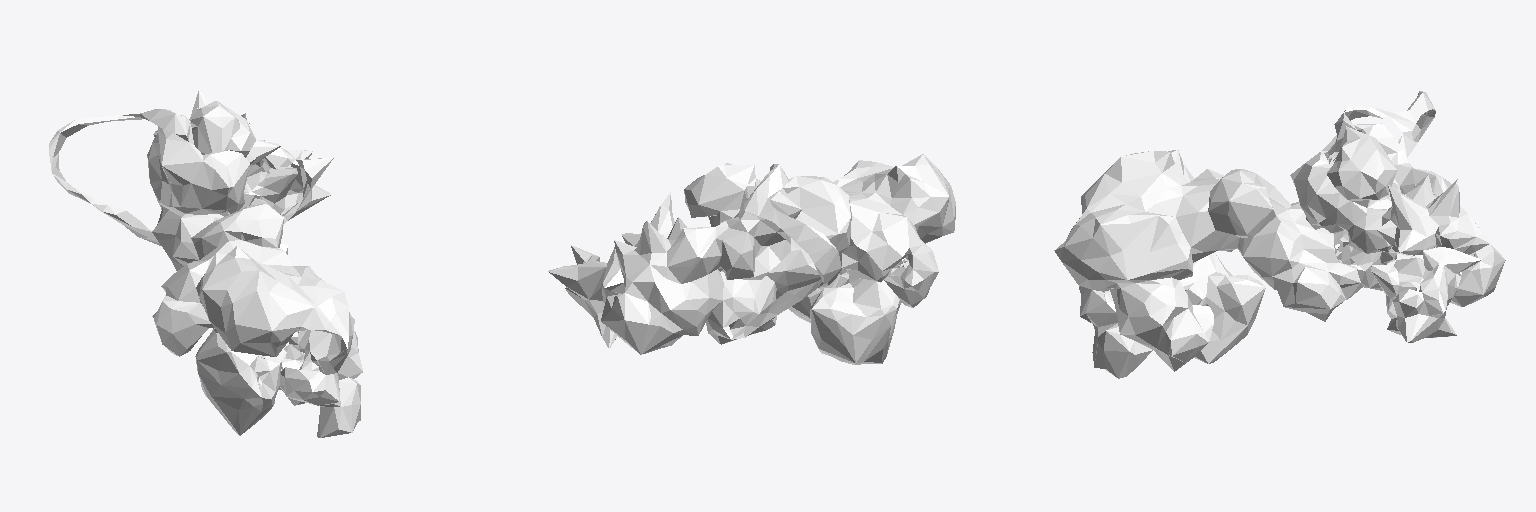
Rendered from biggerpink.obj.
3 views of the same model, side by side, from view 1: azimuth 30°, elevation 25°; view 2: azimuth 150°, elevation 25°; view 3: azimuth 270°, elevation 25° (orthographic).
Bounding box in the file's own units: 0.4733 × 0.4166 × 0.6654.